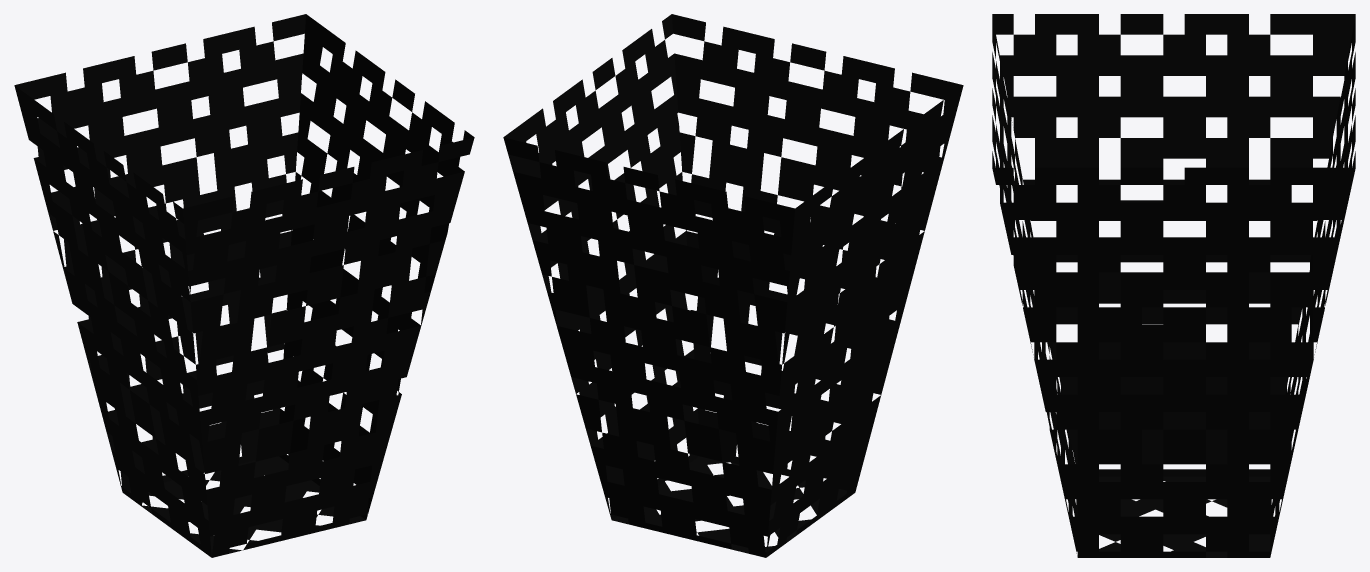
File: office_bin.gltf
The picture shows the model from 3 angles, left to right: view 1: azimuth 30°, elevation 25°; view 2: azimuth 150°, elevation 25°; view 3: azimuth 270°, elevation 25°; orthographic projection. The views are drawn at different scales.
Parts seen in each view (by area): view 1: cylinder; view 2: cylinder; view 3: cylinder.
Boxes of the visible parts, x1=… form: cylinder: x1=14, y1=14, x2=474, y2=557; cylinder: x1=503, y1=14, x2=963, y2=557; cylinder: x1=992, y1=14, x2=1355, y2=557.
Bounding box in the file's own units: 1.06 × 1.38 × 1.06.
1 material, 1 textured.
